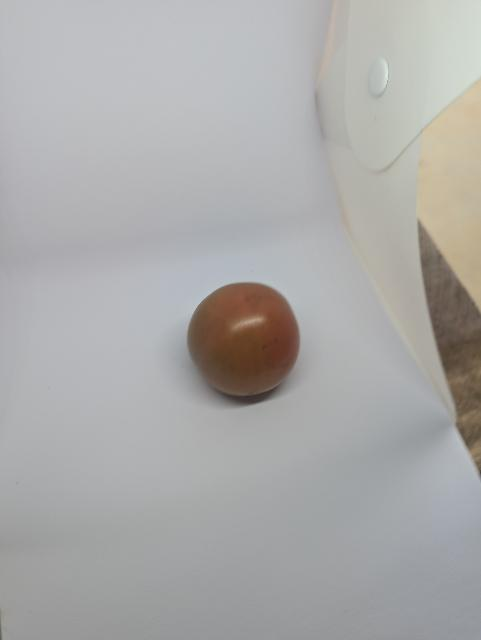red: (182, 279, 315, 404)
